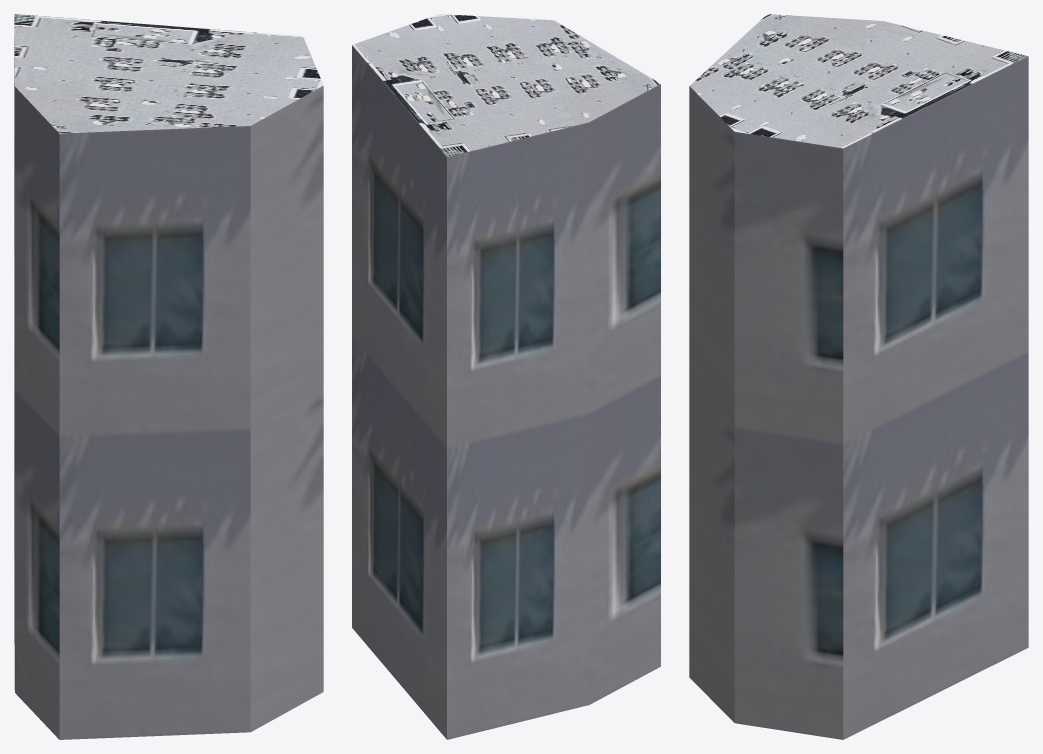
The model's file is ResTex__2856.fbx.
The picture shows the model from 3 angles, left to right: view 1: azimuth 30°, elevation 25°; view 2: azimuth 150°, elevation 25°; view 3: azimuth 270°, elevation 25°; orthographic projection. The views are drawn at different scales.
Parts seen in each view (by area): view 1: CityEngineMaterial_10_m, CityEngineMaterial_4_m; view 2: CityEngineMaterial_10_m, CityEngineMaterial_4_m; view 3: CityEngineMaterial_10_m, CityEngineMaterial_4_m.
Part boxes in pixels (x1,y1,x2,y2): CityEngineMaterial_10_m: (14, 38, 323, 739); CityEngineMaterial_4_m: (14, 14, 323, 133); CityEngineMaterial_10_m: (352, 45, 660, 739); CityEngineMaterial_4_m: (352, 14, 660, 156); CityEngineMaterial_10_m: (689, 56, 1028, 739); CityEngineMaterial_4_m: (690, 14, 1027, 148).
Size of the model in its own units: 2.93 by 6 by 3.12.
Materials: 2 (2 with a texture image).
